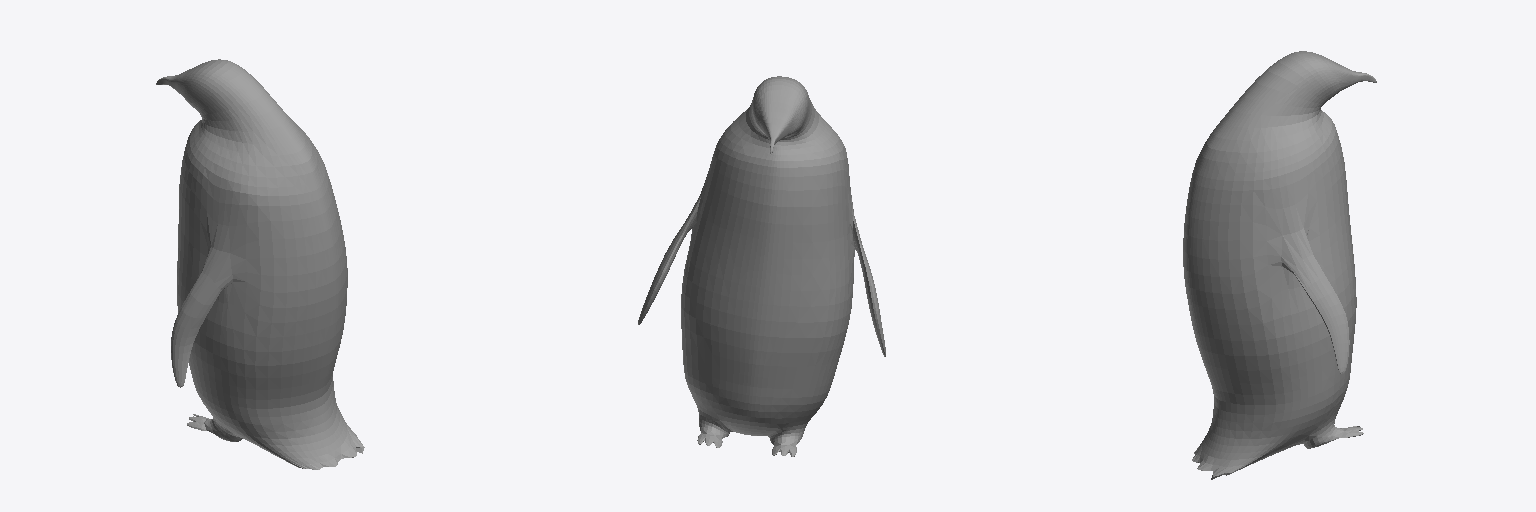
The model's file is penguin1.obj.
3 views of the same model, side by side, from view 1: azimuth 30°, elevation 25°; view 2: azimuth 150°, elevation 25°; view 3: azimuth 270°, elevation 25° (orthographic).
Visible parts, largest first — view 1: Penguin_Cylinder; view 2: Penguin_Cylinder; view 3: Penguin_Cylinder.
Boxes of the visible parts, <box> form: Penguin_Cylinder: <box>156,59,364,469</box>; Penguin_Cylinder: <box>638,76,885,456</box>; Penguin_Cylinder: <box>1183,51,1376,479</box>.
Bounding box in the file's own units: 329 × 598 × 277.